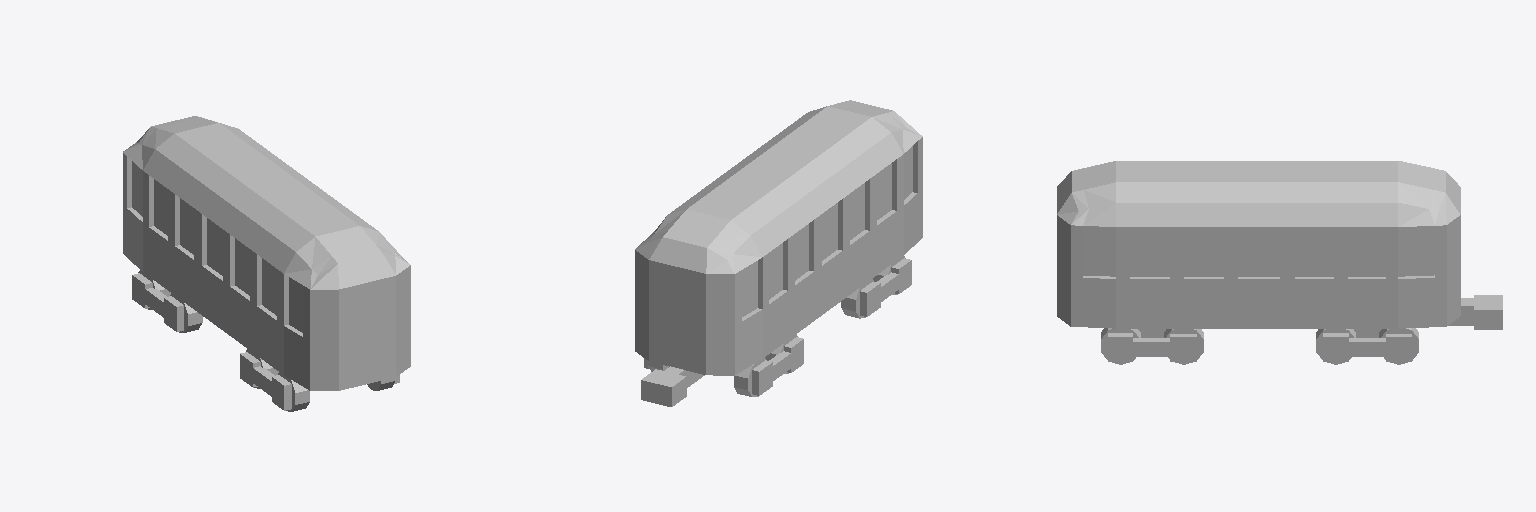
File: Train Passenger Car.obj
3 renders of one model, left to right at view 1: azimuth 30°, elevation 25°; view 2: azimuth 150°, elevation 25°; view 3: azimuth 270°, elevation 25°, orthographic.
Visible parts, largest first — view 1: pCube15, pCube38, pCube35; view 2: pCube15, pCube39, pCube38, pCube35; view 3: pCube15, pCube36, pCube37, pCube39.
Boxes of the visible parts, x1,y1,x2,y2 form: pCube15: [123, 116, 410, 390]; pCube38: [240, 352, 291, 410]; pCube35: [132, 273, 183, 331]; pCube15: [635, 100, 922, 375]; pCube39: [641, 366, 704, 406]; pCube38: [860, 258, 911, 316]; pCube35: [752, 337, 803, 395]; pCube15: [1057, 161, 1460, 328]; pCube36: [1323, 333, 1411, 361]; pCube37: [1108, 333, 1196, 361]; pCube39: [1354, 295, 1502, 337].
Size of the model in its own units: 7.22 by 10.12 by 24.19.